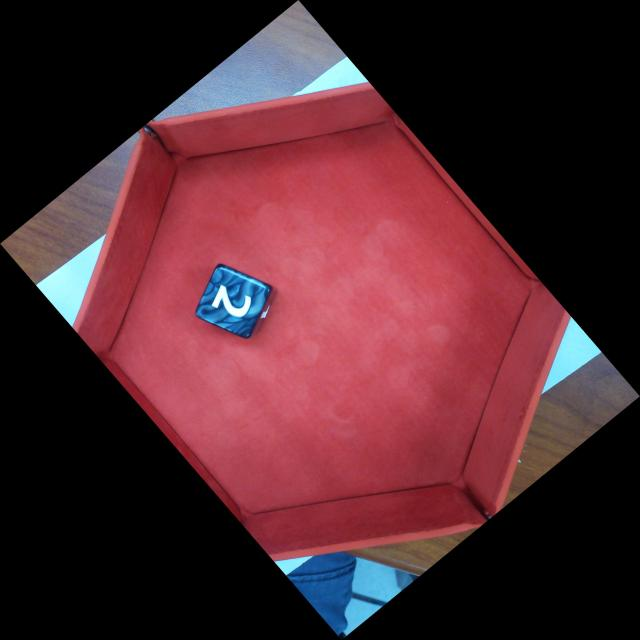dice: (195, 267, 271, 331)
